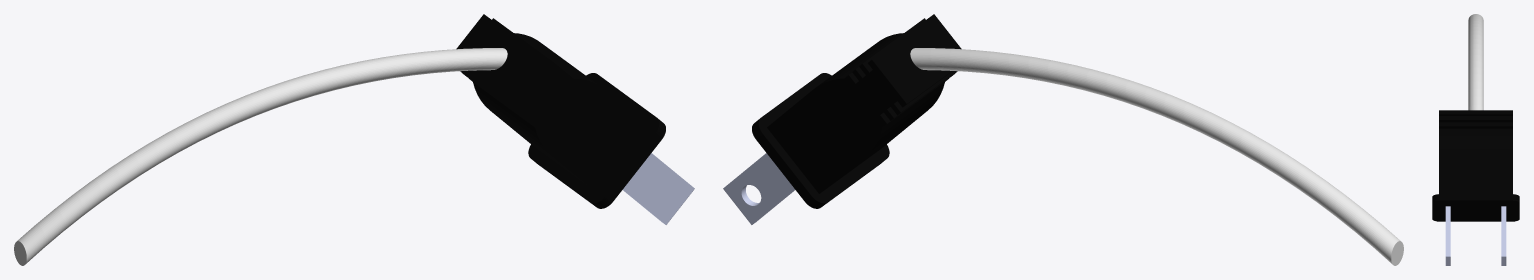
The model's file is plug.dae.
The picture shows the model from 3 angles, left to right: view 1: azimuth 30°, elevation 25°; view 2: azimuth 150°, elevation 25°; view 3: azimuth 270°, elevation 25°; orthographic projection. The views are drawn at different scales.
Visible parts, largest first — view 1: Part 4, Part 5, Part 2; view 2: Part 4, Part 5, Part 1; view 3: Part 4, Part 5, Part 2, Part 1.
Part boxes in pixels (box(x1,y1,x2,y2)): Part 4: box(456, 14, 665, 208); Part 5: box(14, 48, 507, 265); Part 2: box(622, 153, 694, 224); Part 4: box(752, 14, 961, 208); Part 5: box(910, 48, 1403, 265); Part 1: box(723, 153, 795, 224); Part 4: box(1432, 110, 1519, 221); Part 5: box(1468, 14, 1483, 110); Part 2: box(1445, 206, 1450, 265); Part 1: box(1501, 206, 1506, 265).
Bounding box in the file's own units: 0.1322 × 0.026 × 0.0413.
